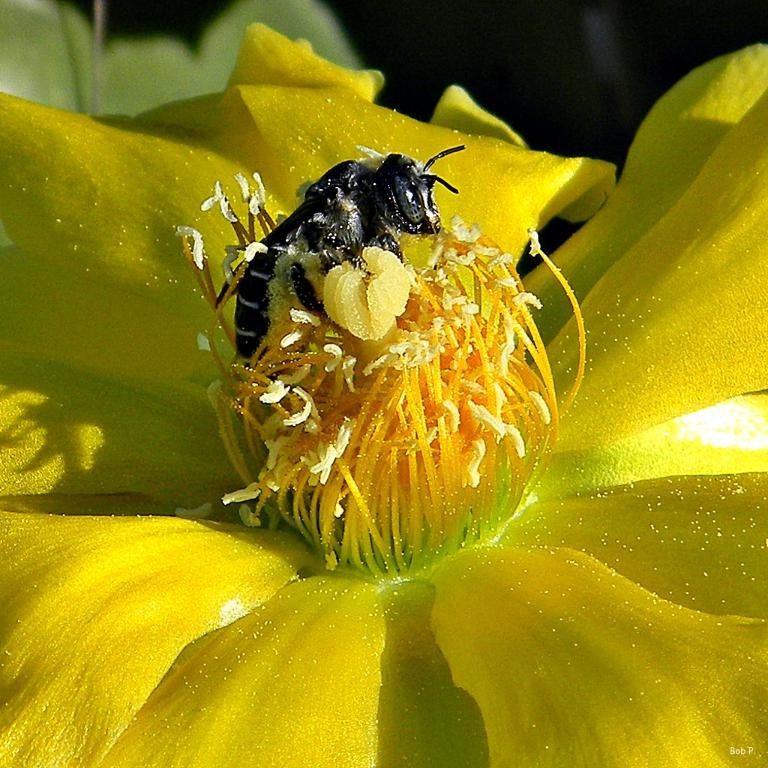bee: (212, 140, 460, 361)
